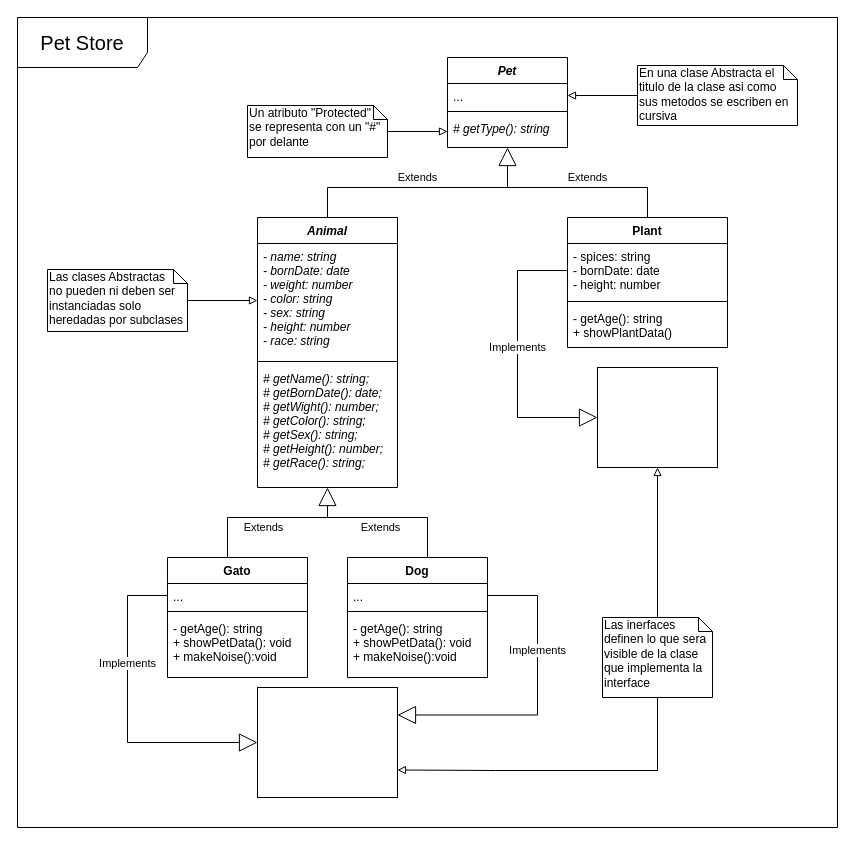
This 855x845 diagram has some shape labels left out. The centre of each missing label's shape, as x and y in pixels:
<<Interface>> Pet ... + showPetData(): void + makeNoise(): void: the point at 327,742
<<Interface>> Plant ... + showPlantData(): the point at 657,417
